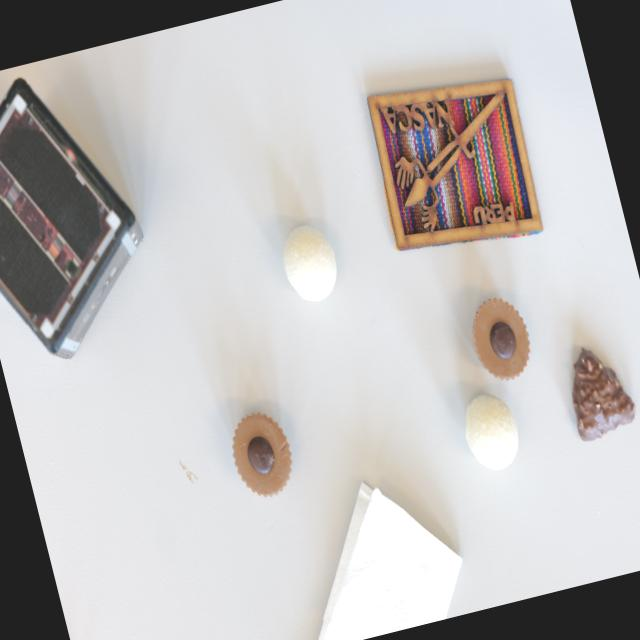Comtesse: (455, 388, 526, 477), (274, 218, 344, 308)
Noblesse: (223, 406, 300, 504), (463, 290, 537, 386)
Triangolo: (557, 338, 640, 443)
